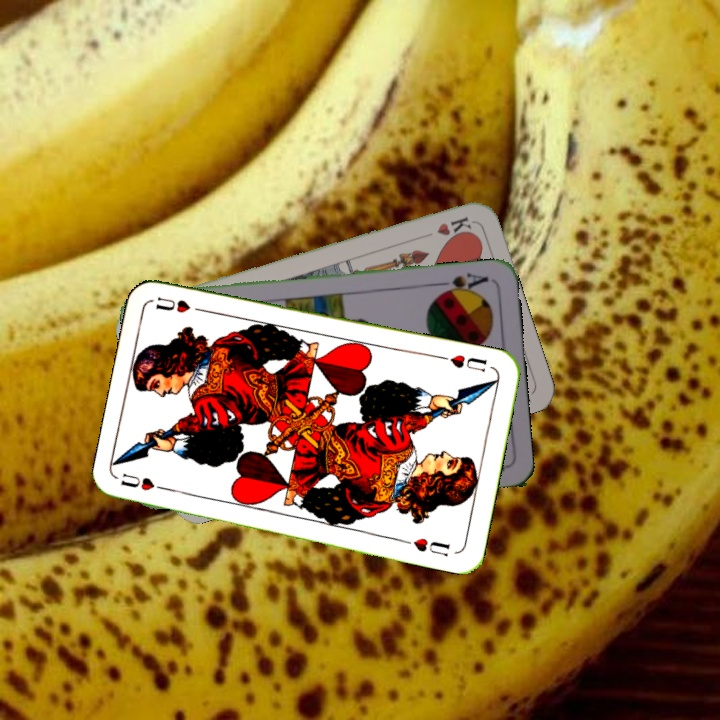HK: (433, 212, 474, 238)
HU: (117, 470, 175, 494), (446, 350, 490, 374)
SA: (433, 269, 491, 298)
